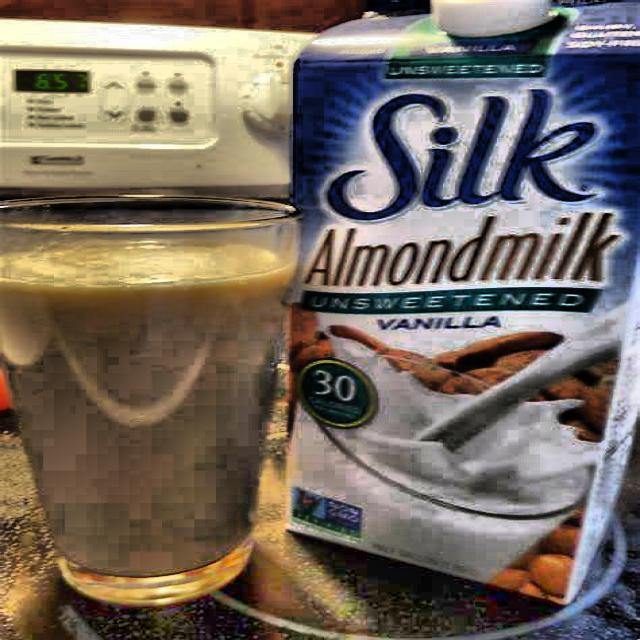cardboard: (281, 1, 638, 605)
